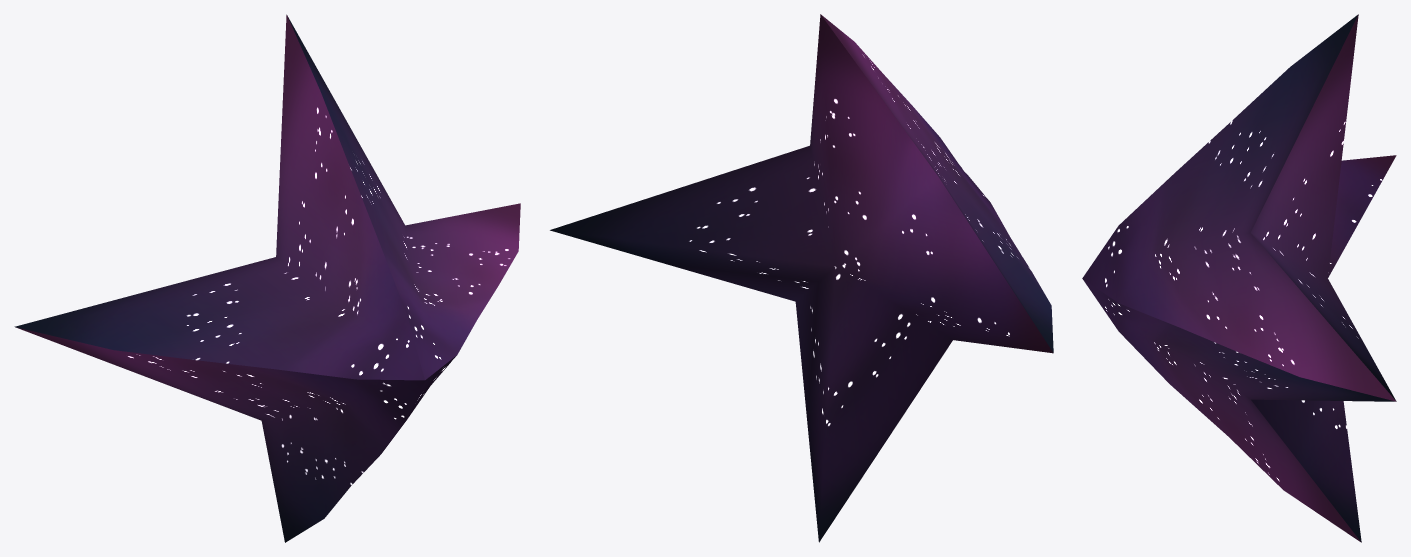
File: 初始身體.fbx
The picture shows the model from 3 angles, left to right: view 1: azimuth 30°, elevation 25°; view 2: azimuth 150°, elevation 25°; view 3: azimuth 270°, elevation 25°; orthographic projection.
Parts seen in each view (by area): view 1: 古老身體; view 2: 古老身體; view 3: 古老身體.
Part boxes in pixels (<box>): 古老身體: <box>14,14,520,542</box>; 古老身體: <box>550,14,1053,542</box>; 古老身體: <box>1082,14,1396,542</box>.
Bounding box in the file's own units: 707 × 707 × 381.
Materials: 4 (4 with a texture image).
